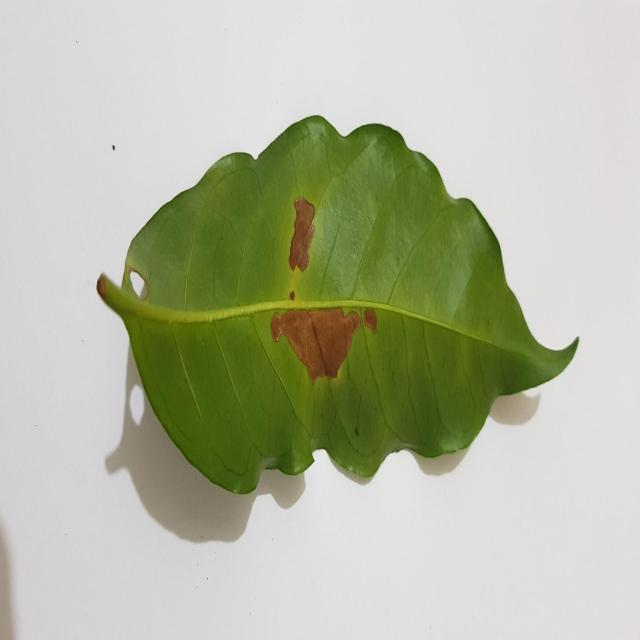miner: (271, 308, 377, 383), (288, 196, 316, 272)
